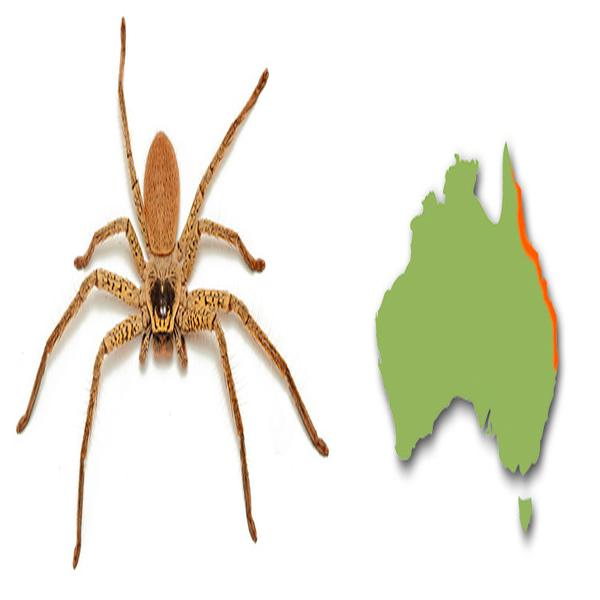Huntsman Spider: (25, 17, 327, 550)
